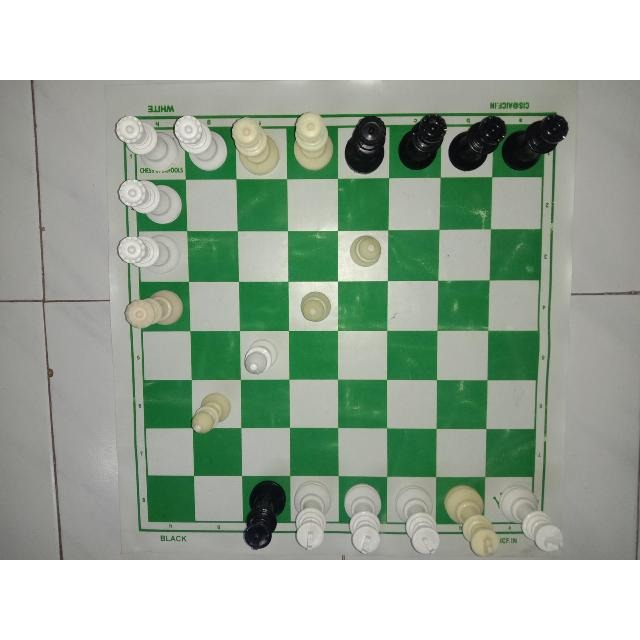black-king: (240, 478, 289, 552)
black-queen: (395, 111, 449, 179), (510, 113, 570, 174), (451, 114, 508, 178), (342, 112, 391, 178)
white-bishop: (190, 388, 234, 434), (240, 336, 282, 377), (346, 232, 384, 271), (294, 287, 333, 325)
white-king: (504, 480, 565, 554), (444, 482, 500, 559), (392, 482, 439, 559), (290, 478, 336, 554), (340, 479, 386, 555)
white-queen: (111, 113, 182, 174), (170, 114, 229, 172), (116, 177, 184, 227), (230, 115, 282, 178), (114, 235, 183, 277), (122, 287, 188, 330), (290, 110, 335, 172)
